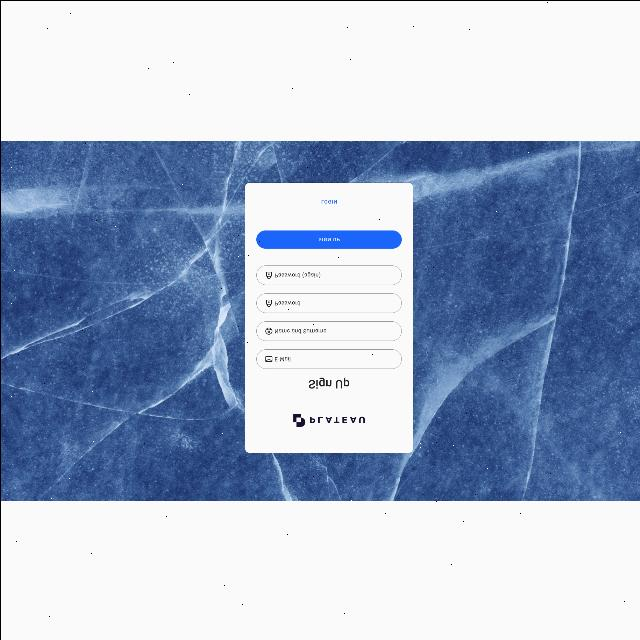QLabel: (306, 376, 348, 390), (319, 198, 336, 204), (318, 236, 340, 240)
VBtn: (255, 229, 401, 247)
VCard: (243, 181, 413, 451)
VImg: (289, 412, 365, 428)
VTextField: (255, 319, 401, 341), (254, 292, 402, 312), (255, 348, 401, 368), (255, 264, 400, 284)
